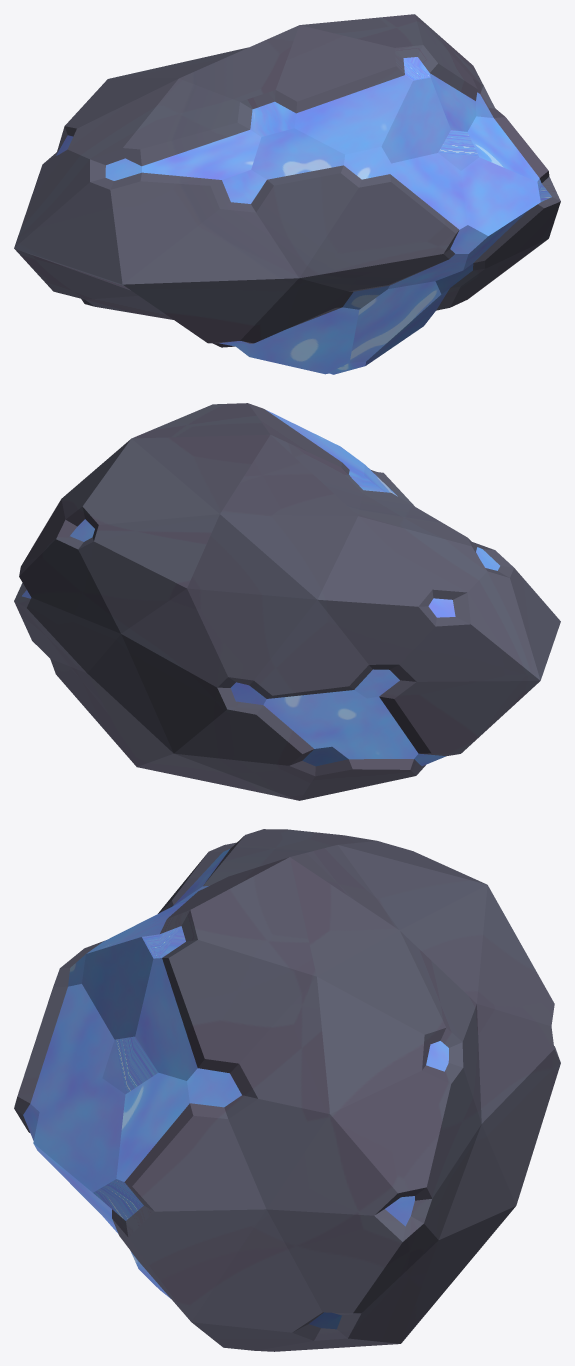
3 views of the same model, one above another, from view 1: azimuth 30°, elevation 25°; view 2: azimuth 150°, elevation 25°; view 3: azimuth 270°, elevation 25° (orthographic). The views are drawn at different scales.
Parts seen in each view (by area): view 1: метиорит.001; view 2: метиорит.001; view 3: метиорит.001.
Part boxes in pixels (x1,y1,x2,y2): метиорит.001: (14, 14, 560, 374); метиорит.001: (14, 403, 560, 800); метиорит.001: (14, 829, 560, 1351).
Bounding box in the file's own units: 324 × 213 × 232.
Materials: 2 (2 with a texture image).
